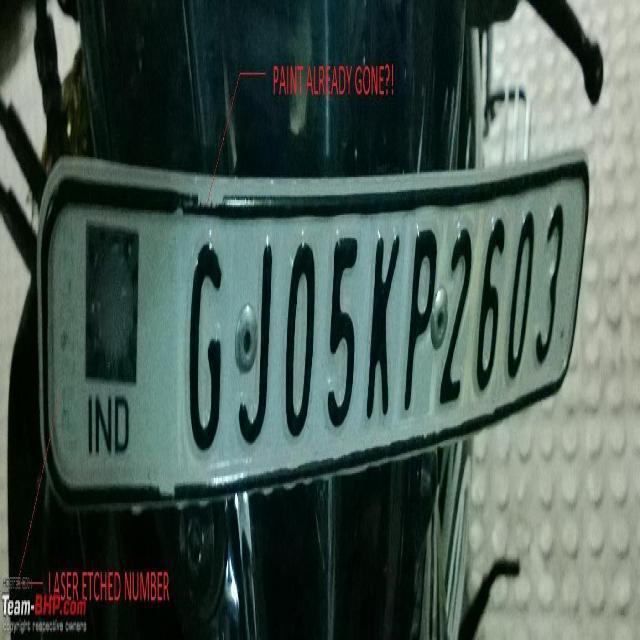License_Plate: (26, 160, 592, 496)
